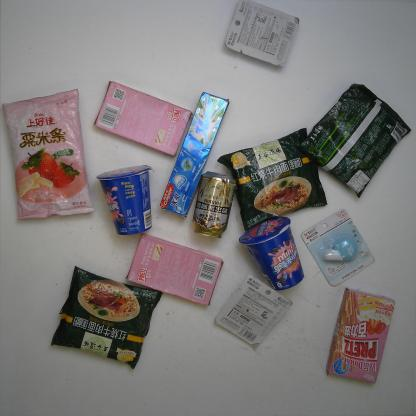Alcohol: (187, 171, 235, 243)
Dessert: (93, 79, 193, 160), (122, 231, 225, 307), (323, 288, 396, 384), (238, 217, 306, 290), (96, 164, 155, 237)
Instant Noodles: (297, 82, 411, 203), (47, 265, 162, 370), (217, 125, 329, 232)
Personal Hygiene: (158, 90, 231, 217)
Puffed Food: (0, 86, 94, 223)
Stationery: (299, 207, 377, 287), (212, 274, 294, 350), (223, 0, 300, 68)
